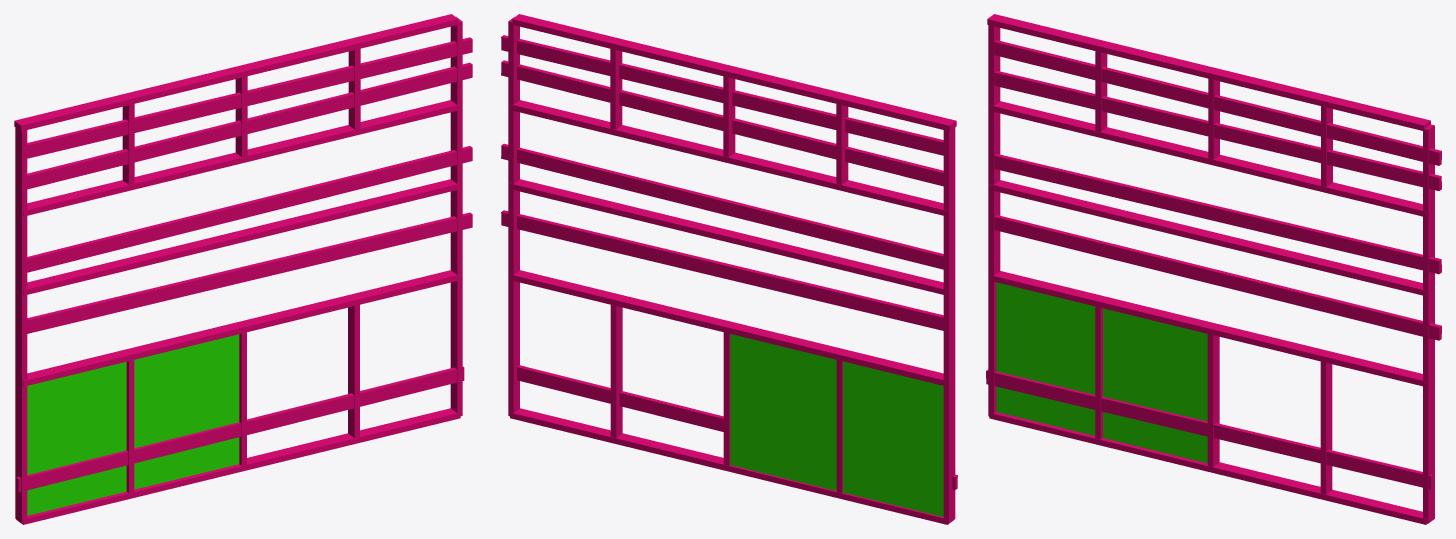
File: BH03_Wall_07_Break_B2.fbx
The picture shows the model from 3 angles, left to right: view 1: azimuth 30°, elevation 25°; view 2: azimuth 150°, elevation 25°; view 3: azimuth 330°, elevation 25°; orthographic projection.
Visible parts, largest first — view 1: BH03_Wall_07_Break_B2; view 2: BH03_Wall_07_Break_B2; view 3: BH03_Wall_07_Break_B2.
Part boxes in pixels (x1,y1,x2,y2): BH03_Wall_07_Break_B2: (14, 14, 472, 524); BH03_Wall_07_Break_B2: (501, 14, 957, 524); BH03_Wall_07_Break_B2: (986, 14, 1441, 524).
Size of the model in its own units: 356 by 299 by 9.45.
